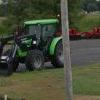Tractor: (5, 14, 72, 80)
